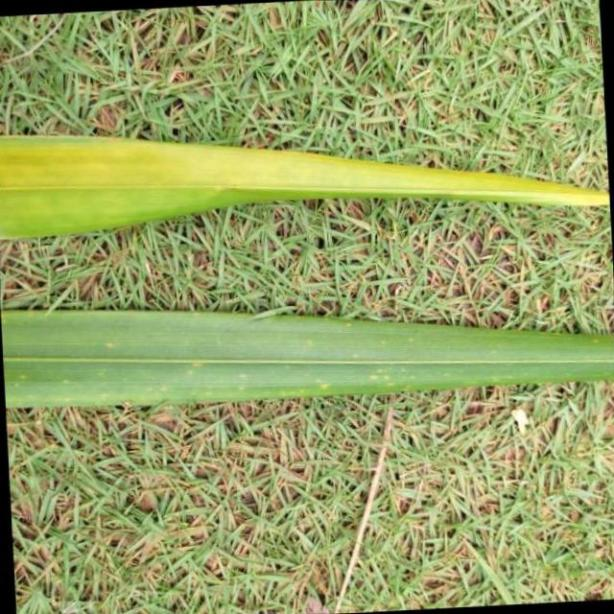nitrogen: (0, 133, 614, 248), (0, 310, 614, 406)
